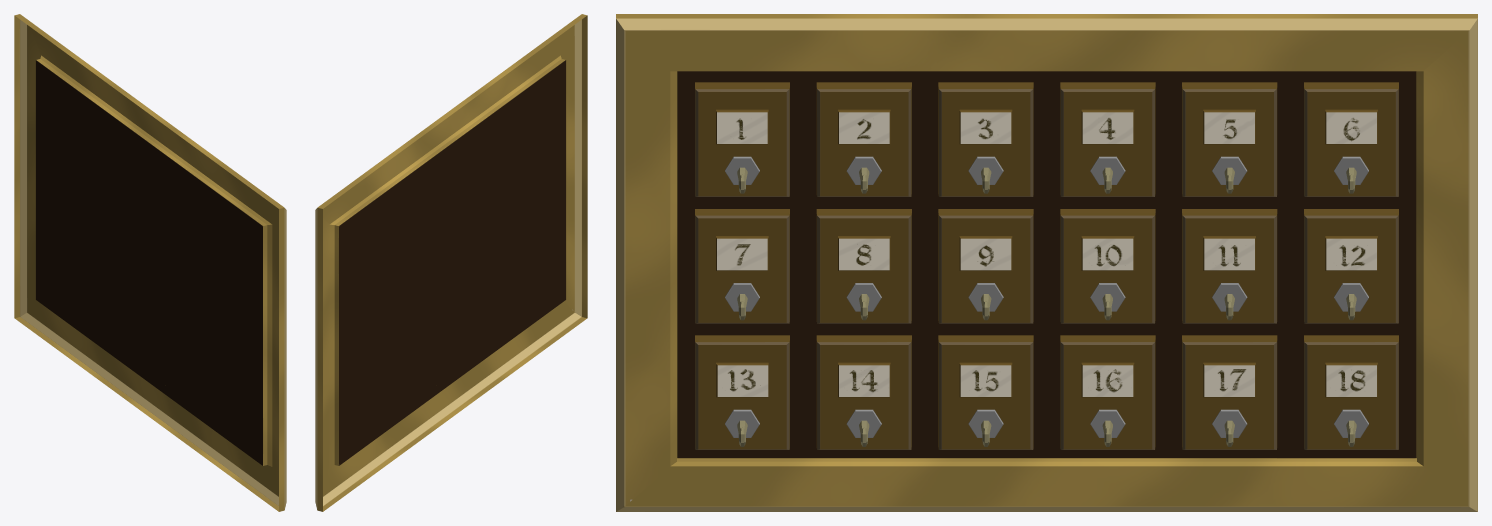
Rendered from Tablero.fbx.
3 views of the same model, side by side, from view 1: azimuth 30°, elevation 25°; view 2: azimuth 150°, elevation 25°; view 3: azimuth 270°, elevation 25° (orthographic). The views are drawn at different scales.
Visible parts, largest first — view 1: Cube.001; view 2: Cube.001; view 3: Cube.001, Cube.
Part boxes in pixels (box(x1,y1,x2,y2)): Cube.001: box(14, 14, 286, 511); Cube.001: box(315, 14, 587, 511); Cube.001: box(616, 14, 1477, 511); Cube: box(695, 82, 1398, 449).
Size of the model in its own units: 34.83 by 347 by 549.
